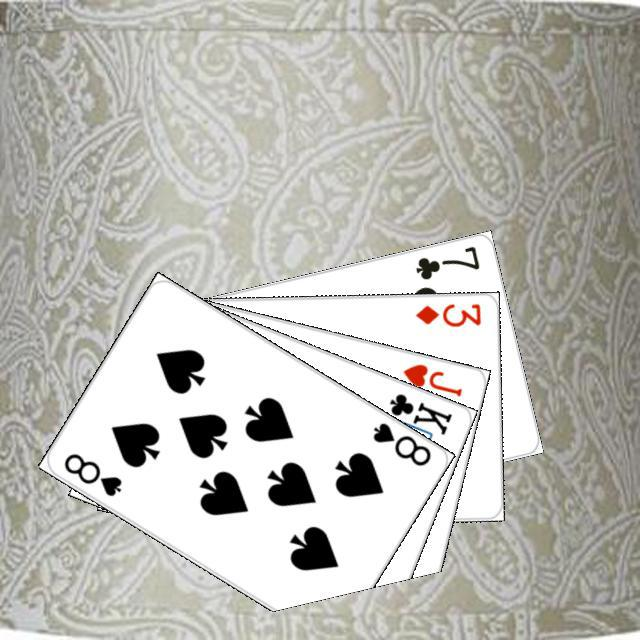3d: (411, 298, 483, 328)
7c: (410, 241, 482, 282)
8s: (367, 417, 433, 468), (58, 448, 124, 499)
Jh: (398, 359, 464, 398)
Kc: (372, 388, 454, 439)
